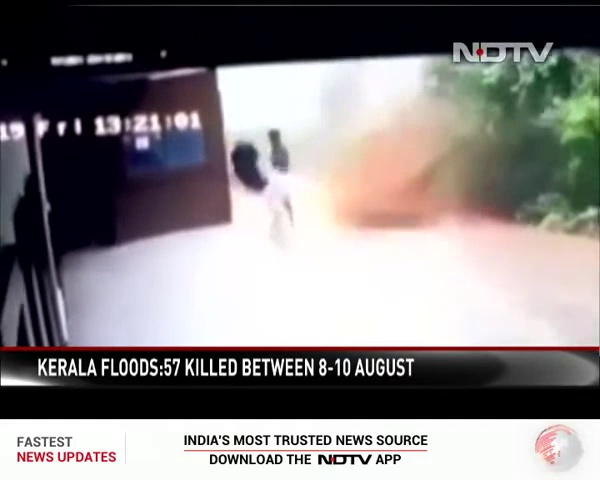person: (260, 129, 297, 240)
